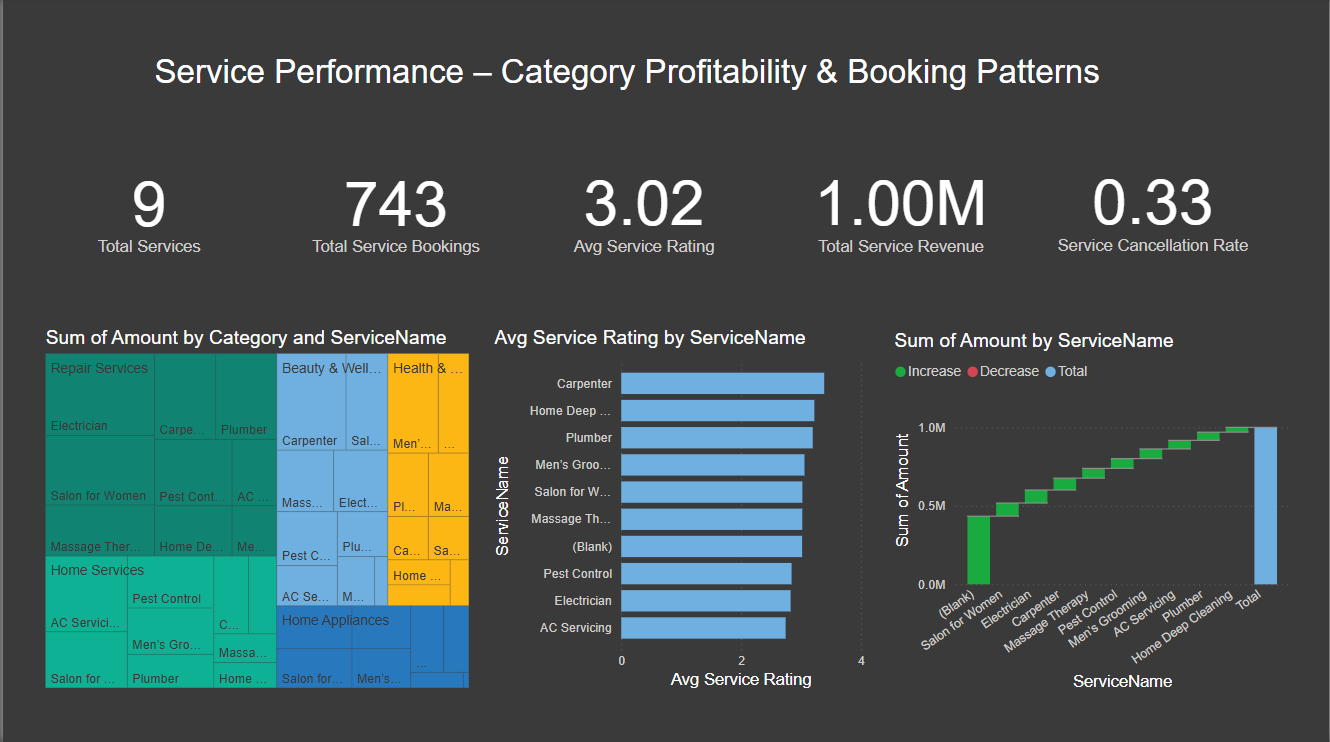

This screenshot's page, from the dashboard's own definition file:
{"tool":"powerbi","page":{"name":"Service Performance","canvas":[1280,720],"ordinal":2},"visuals":[{"type":"textbox","box":[141.2,49.5,1029.1,78.4],"z":0},{"type":"card","fields":{"Values":["services.Total Services"]},"box":[62.7,129.1,156.8,149.6],"z":1000},{"type":"card","fields":{"Values":["services.Total Service Bookings"]},"box":[289.5,129.1,179.8,149.6],"z":2000},{"type":"card","fields":{"Values":["services.Total Service Revenue"]},"box":[776.9,127.9,179.8,150.8],"z":3000},{"type":"card","fields":{"Values":["services.Service Cancellation Rate"]},"box":[1009.8,126.7,200.3,150.8],"z":4000},{"type":"card","fields":{"Values":["services.Avg Service Rating"]},"box":[542.9,127.9,152,150.8],"z":5000},{"type":"treemap","fields":{"Values":["Sum(payments.Amount)"],"Group":["services.Category"],"Details":["services.ServiceName"]},"box":[36.2,318.5,418.6,353.5],"z":6000},{"type":"waterfallChart","fields":{"Y":["Sum(payments.Amount)"],"Category":["services.ServiceName"]},"box":[855.4,320.9,390.9,353.5],"z":7000},{"type":"clusteredBarChart","fields":{"Category":["services.ServiceName"],"Y":["services.Avg Service Rating"]},"box":[469.3,318.5,368,353.5],"z":8000}]}

Visuals, with their boxes in screenshot pixels (x1, y1, x2, y2), scaled from the page's 1280x720 canvas onto the 1330x742 screenshot:
textbox: {"left": 147, "top": 51, "right": 1216, "bottom": 132}
card - services.Total Services: {"left": 65, "top": 133, "right": 228, "bottom": 287}
card - services.Total Service Bookings: {"left": 301, "top": 133, "right": 488, "bottom": 287}
card - services.Total Service Revenue: {"left": 807, "top": 132, "right": 994, "bottom": 287}
card - services.Service Cancellation Rate: {"left": 1049, "top": 131, "right": 1257, "bottom": 286}
card - services.Avg Service Rating: {"left": 564, "top": 132, "right": 722, "bottom": 287}
treemap - Sum(payments.Amount) x services.Category: {"left": 38, "top": 328, "right": 473, "bottom": 693}
waterfallChart - Sum(payments.Amount) x services.ServiceName: {"left": 889, "top": 331, "right": 1295, "bottom": 695}
clusteredBarChart - services.ServiceName x services.Avg Service Rating: {"left": 488, "top": 328, "right": 870, "bottom": 693}
